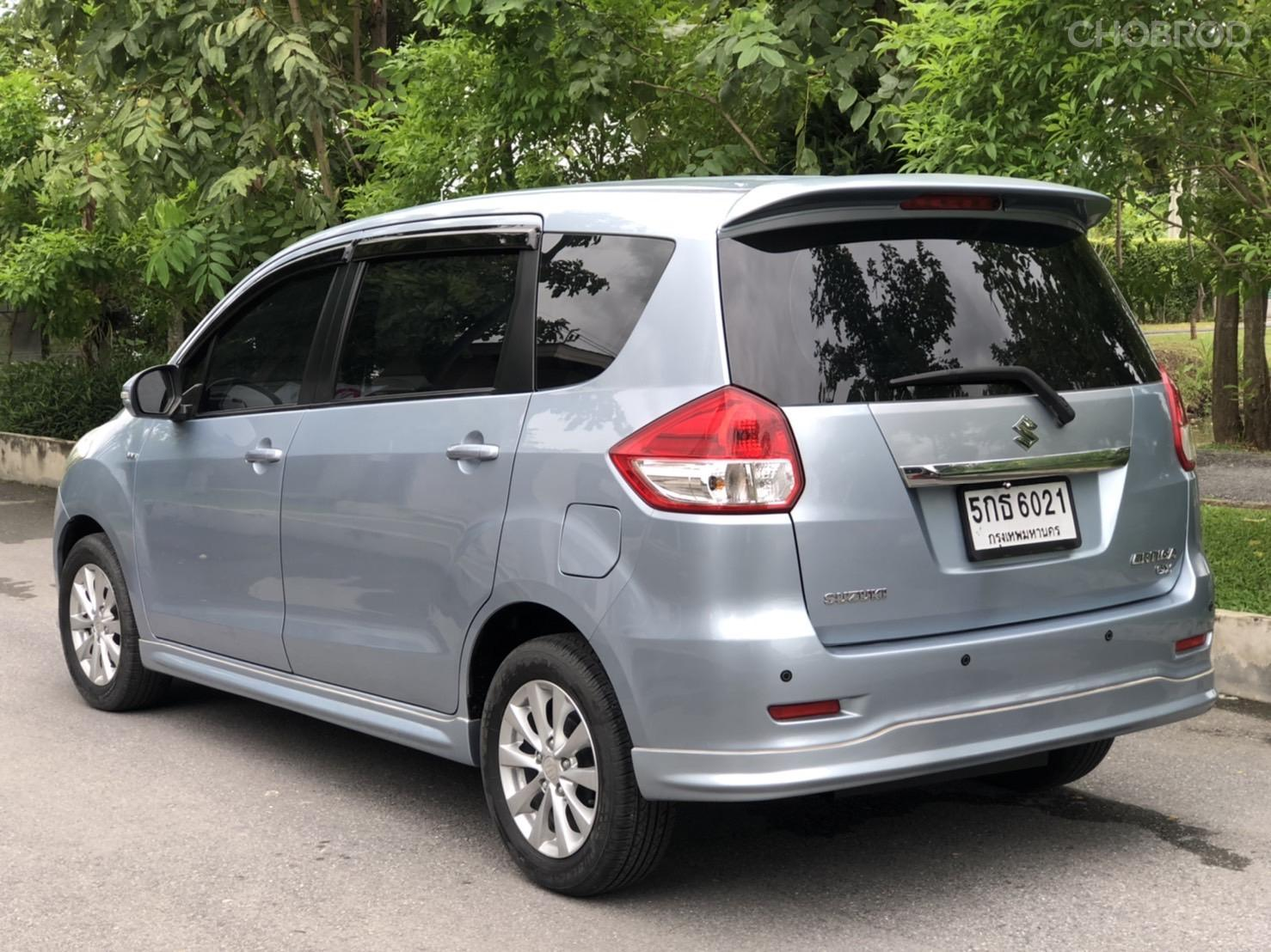license-plate: (941, 458, 1099, 570)
